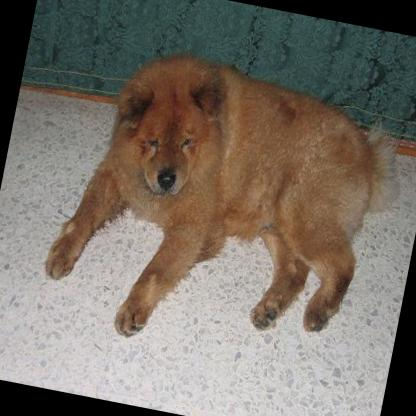chow: (32, 33, 416, 382)
